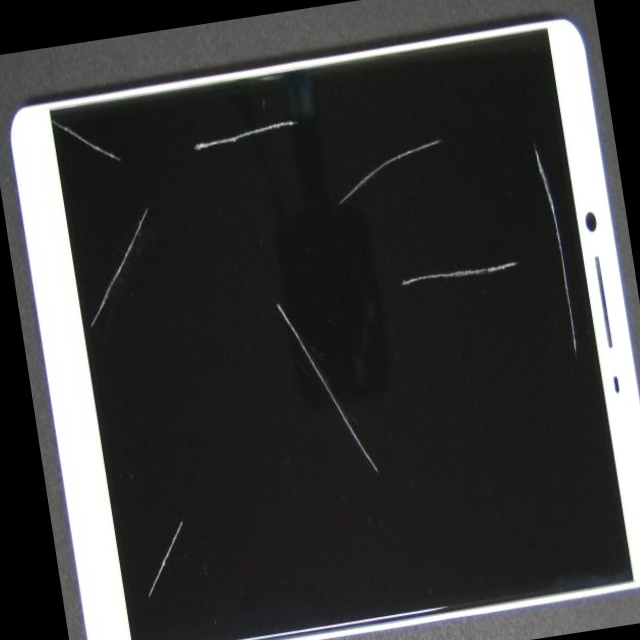scratch: (232, 0, 640, 402), (325, 106, 640, 410), (94, 232, 242, 640), (213, 24, 419, 155)
